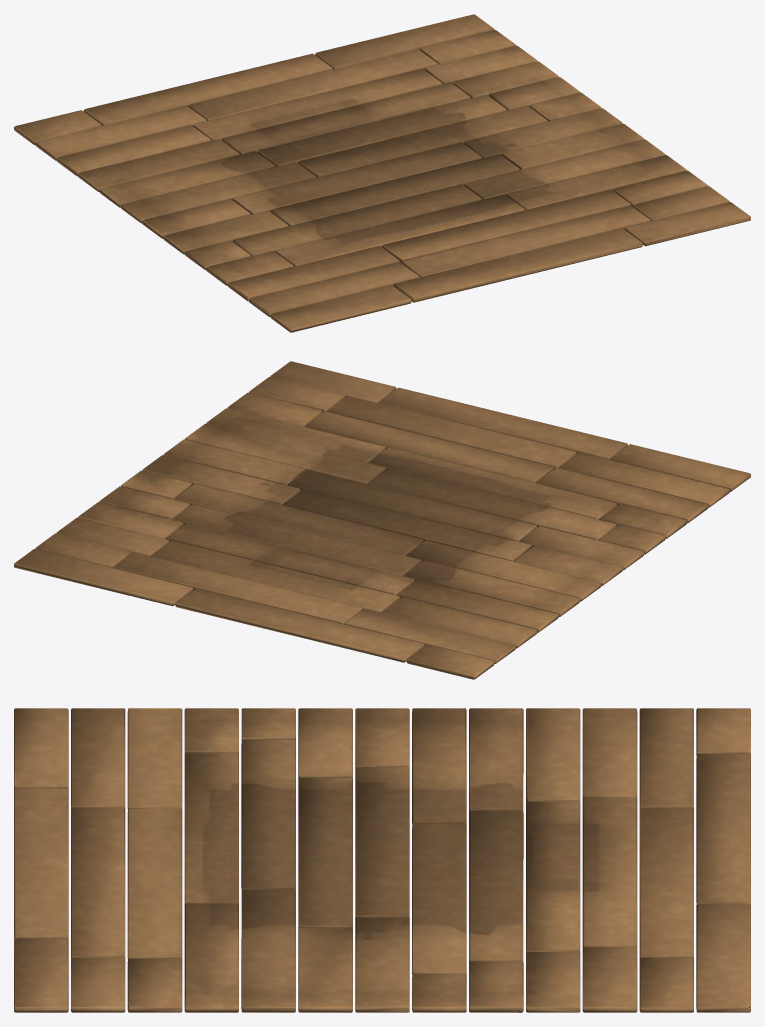
File: floor_planks.glb
The picture shows the model from 3 angles, top to bottom: view 1: azimuth 30°, elevation 25°; view 2: azimuth 150°, elevation 25°; view 3: azimuth 270°, elevation 25°; orthographic projection. The views are drawn at different scales.
Visible parts, largest first — view 1: prop_floor_planks_wood; view 2: prop_floor_planks_wood; view 3: prop_floor_planks_wood.
Part boxes in pixels (x1,y1,x2,y2): prop_floor_planks_wood: (14,14,750,332); prop_floor_planks_wood: (14,361,750,679); prop_floor_planks_wood: (14,708,750,1012).
Size of the model in its own units: 3.99 by 0.0389 by 4.15.
1 material, 1 textured.
